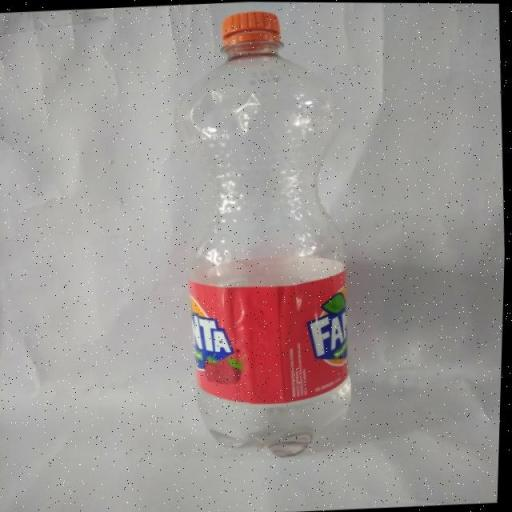plastic: (160, 2, 368, 464)
